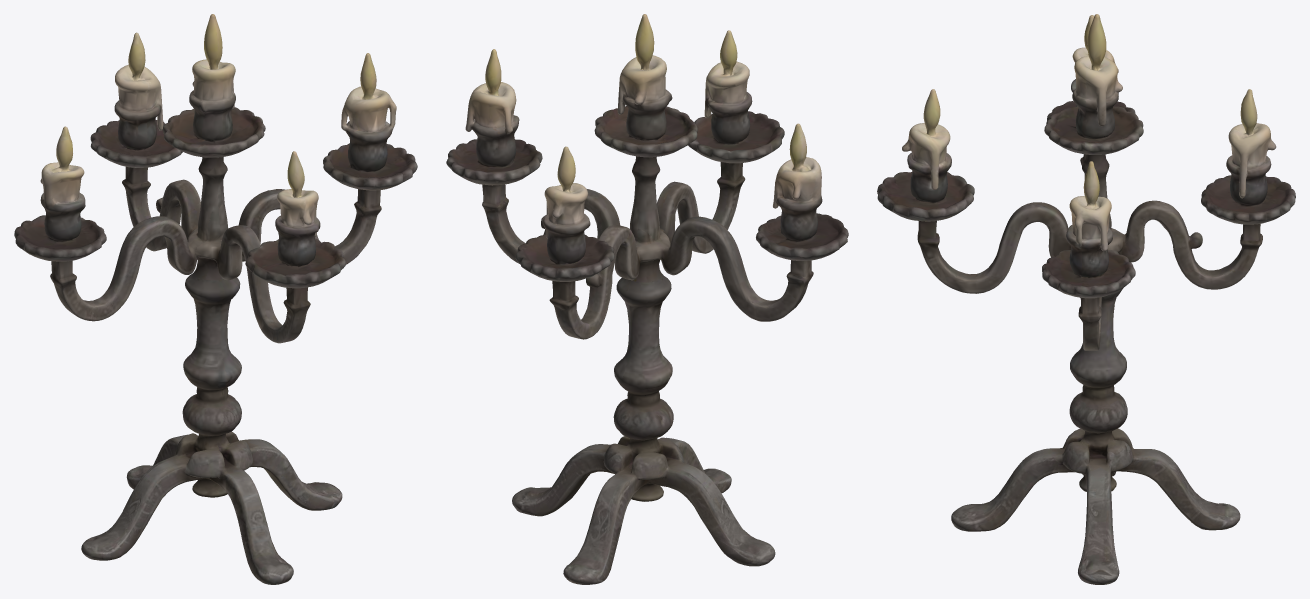
The model's file is 立式蜡烛灯.glb.
The picture shows the model from 3 angles, left to right: view 1: azimuth 30°, elevation 25°; view 2: azimuth 150°, elevation 25°; view 3: azimuth 270°, elevation 25°; orthographic projection.
Parts seen in each view (by area): view 1: tripo_node_3f772143-5f69-4cfe-961a-0f7a9bf1fef9; view 2: tripo_node_3f772143-5f69-4cfe-961a-0f7a9bf1fef9; view 3: tripo_node_3f772143-5f69-4cfe-961a-0f7a9bf1fef9.
Part boxes in pixels (left/top/right/bottom): tripo_node_3f772143-5f69-4cfe-961a-0f7a9bf1fef9: left=14, top=14, right=417, bottom=584; tripo_node_3f772143-5f69-4cfe-961a-0f7a9bf1fef9: left=446, top=14, right=848, bottom=584; tripo_node_3f772143-5f69-4cfe-961a-0f7a9bf1fef9: left=877, top=14, right=1295, bottom=584.
Bounding box in the file's own units: 0.7859 × 0.9998 × 0.7414.
Materials: 1 (1 with a texture image).
